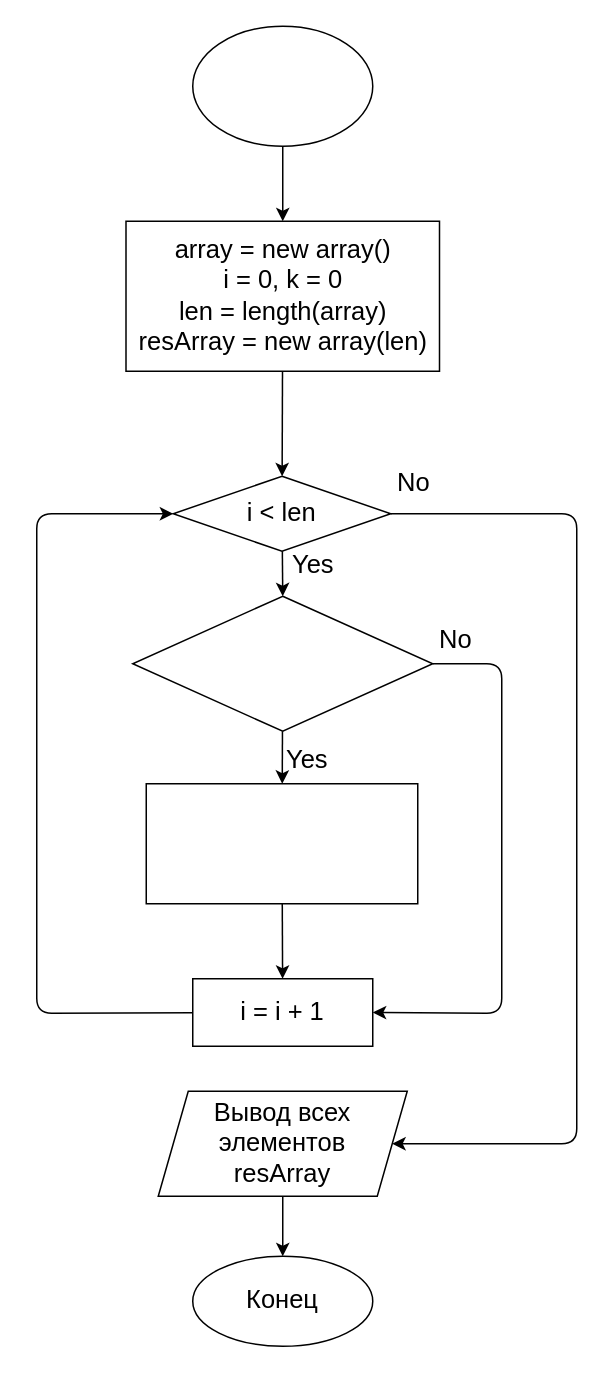
Some shapes in this 615 by 1373 pixel diagram are drawn without their labels. Each missing label, with the centre of its shape:
array[i] <= 3: the point at 282,663
resArray[k] = array[i] k = k + 1: the point at 281,843
Начало: the point at 282,85
